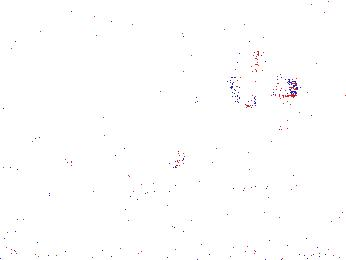flame jellyfish: (225, 56, 299, 108), (154, 169, 214, 228), (128, 151, 186, 207)
